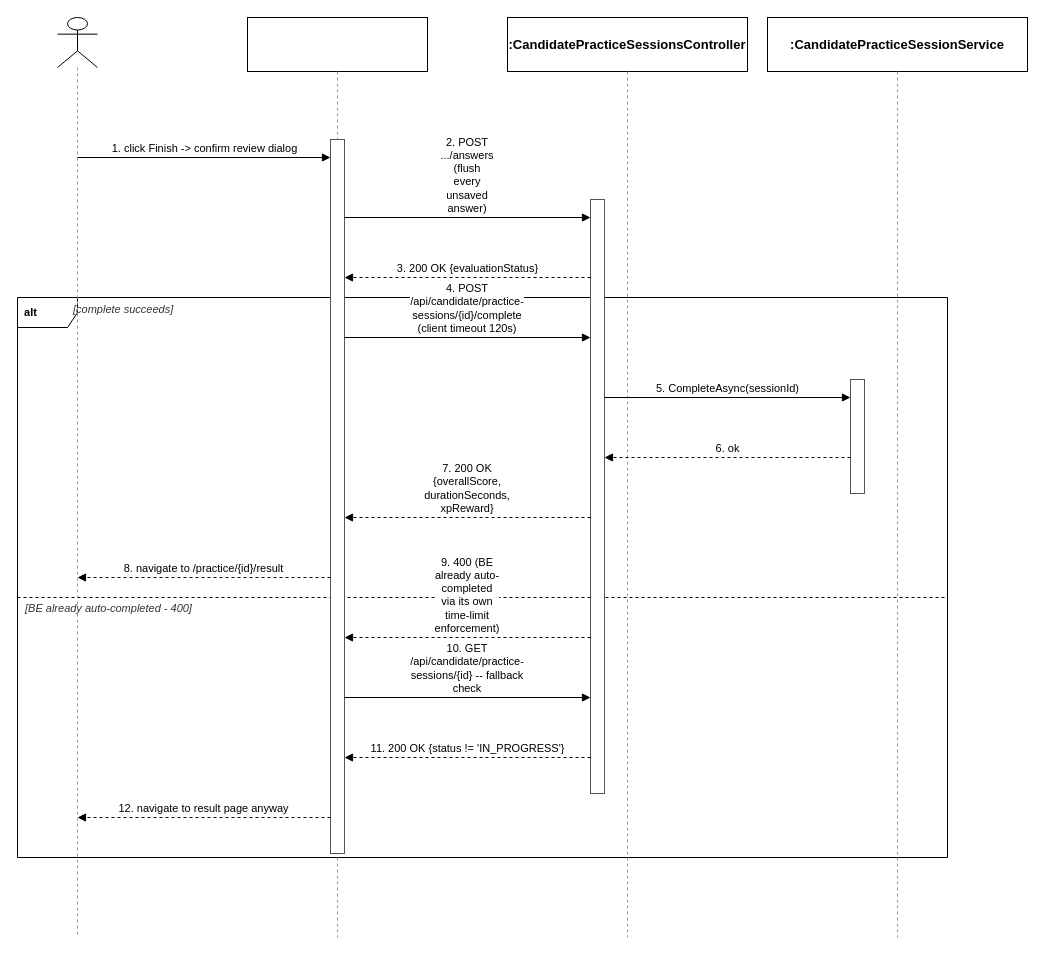
This 1045x956 diagram has some shape labels left out. Each missing label, with the centre of its shape:
:PracticeSessionClient: point 337,44
Job Seeker: point 77,42
